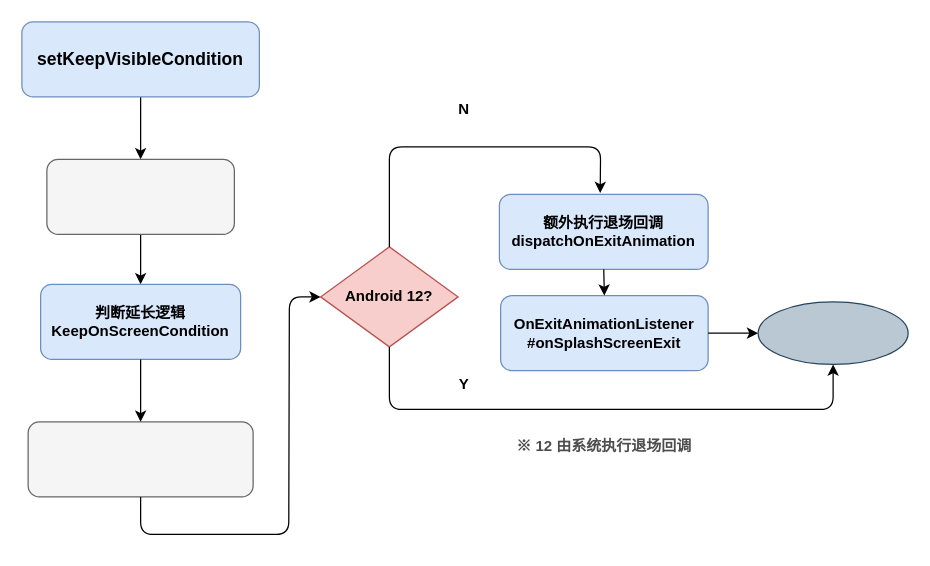
Some shapes in this 930 by 566 pixel diagram are drawn without their labels. The shapes that lost their labels are listed below. From the top down, each one's box as (x1, y1, x2, y2) in pixels, then its label:
(46, 158, 234, 234): 设置预描画回调 addOnPreDrawListener
(757, 301, 908, 364): End
(27, 421, 253, 497): 移除预描画回调 removeOnPreDrawListener
